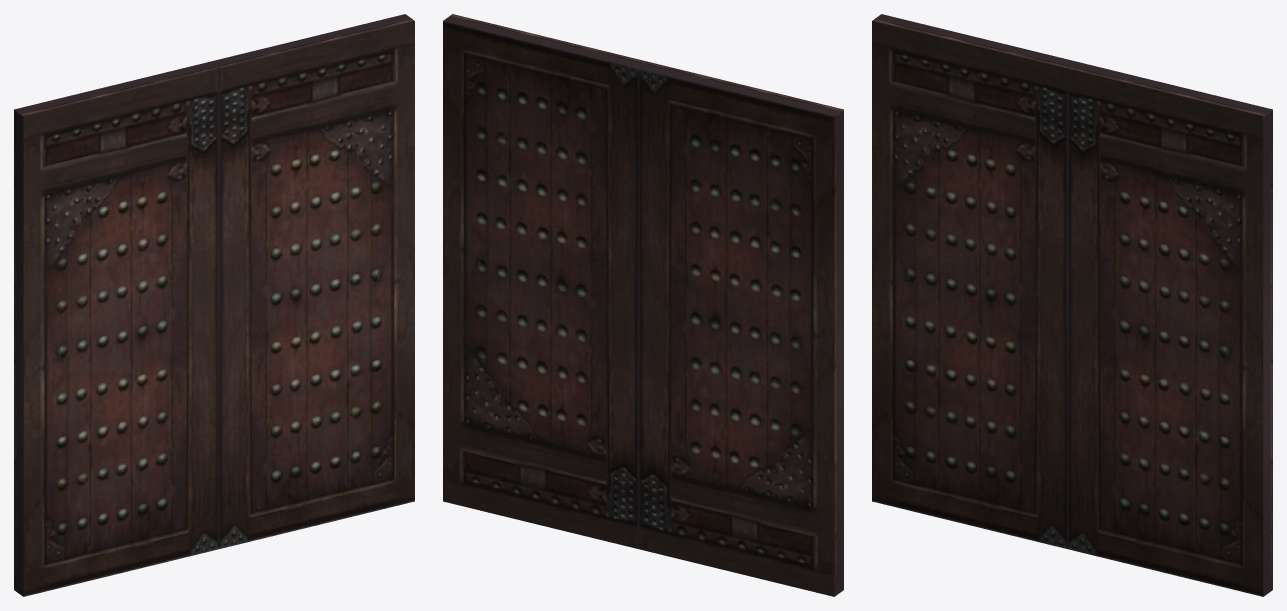
The model's file is s7_hitdoor02.FBX.
3 renders of one model, left to right at view 1: azimuth 30°, elevation 25°; view 2: azimuth 150°, elevation 25°; view 3: azimuth 330°, elevation 25°, orthographic.
Visible parts, largest first — view 1: Object002; view 2: Object002; view 3: Object002.
Part boxes in pixels (x1,y1,x2,y2): Object002: (14,14,414,596); Object002: (443,14,843,596); Object002: (872,14,1272,596).
Size of the model in its own units: 7.64 by 8.97 by 0.3171.
1 material, 1 textured.
